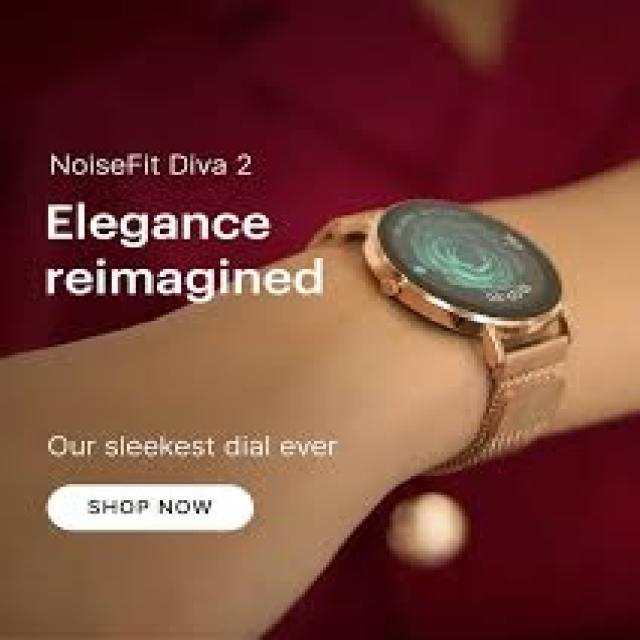watch: (317, 178, 640, 360)
